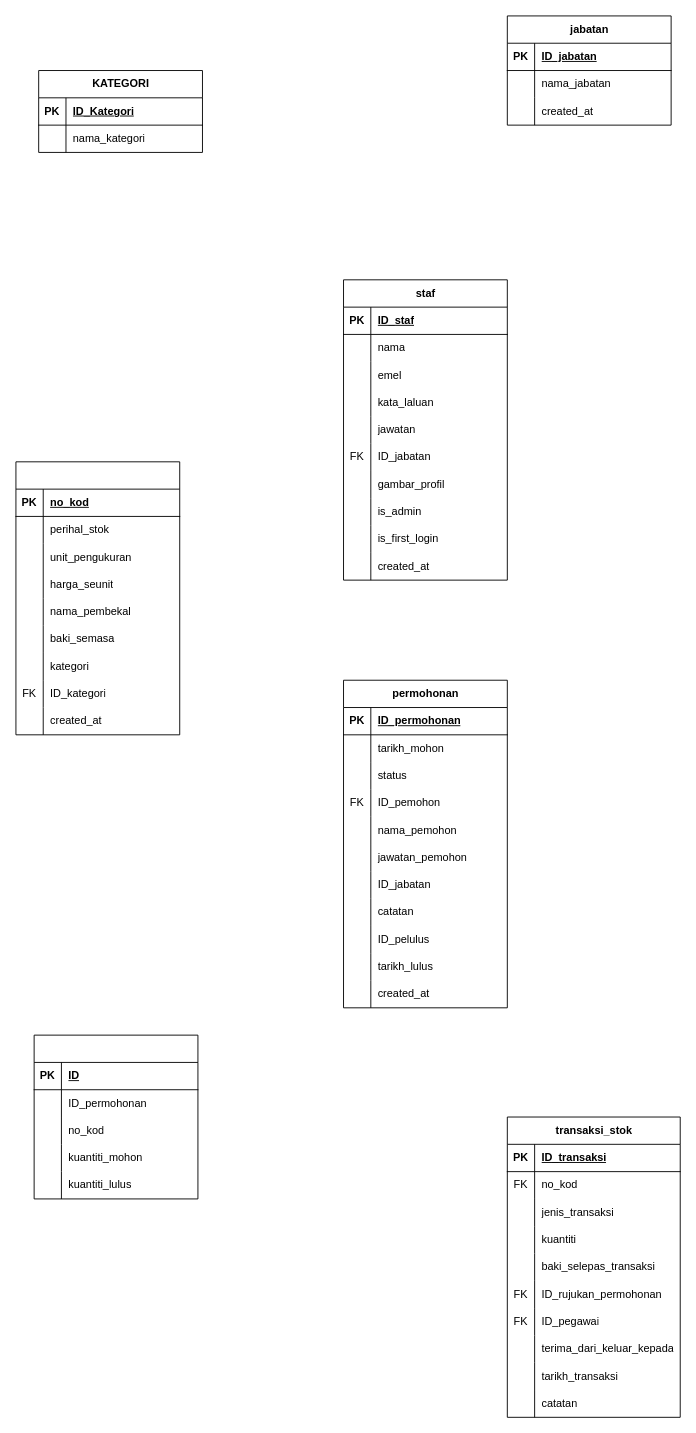
Image size: 696x1433. Some labels were removed from this diagram. The box of each missing label's shape, as (x1, y1, x2, y2) in pixels:
barang: (15, 461, 180, 735)
permohonan_barang: (33, 1034, 198, 1199)
